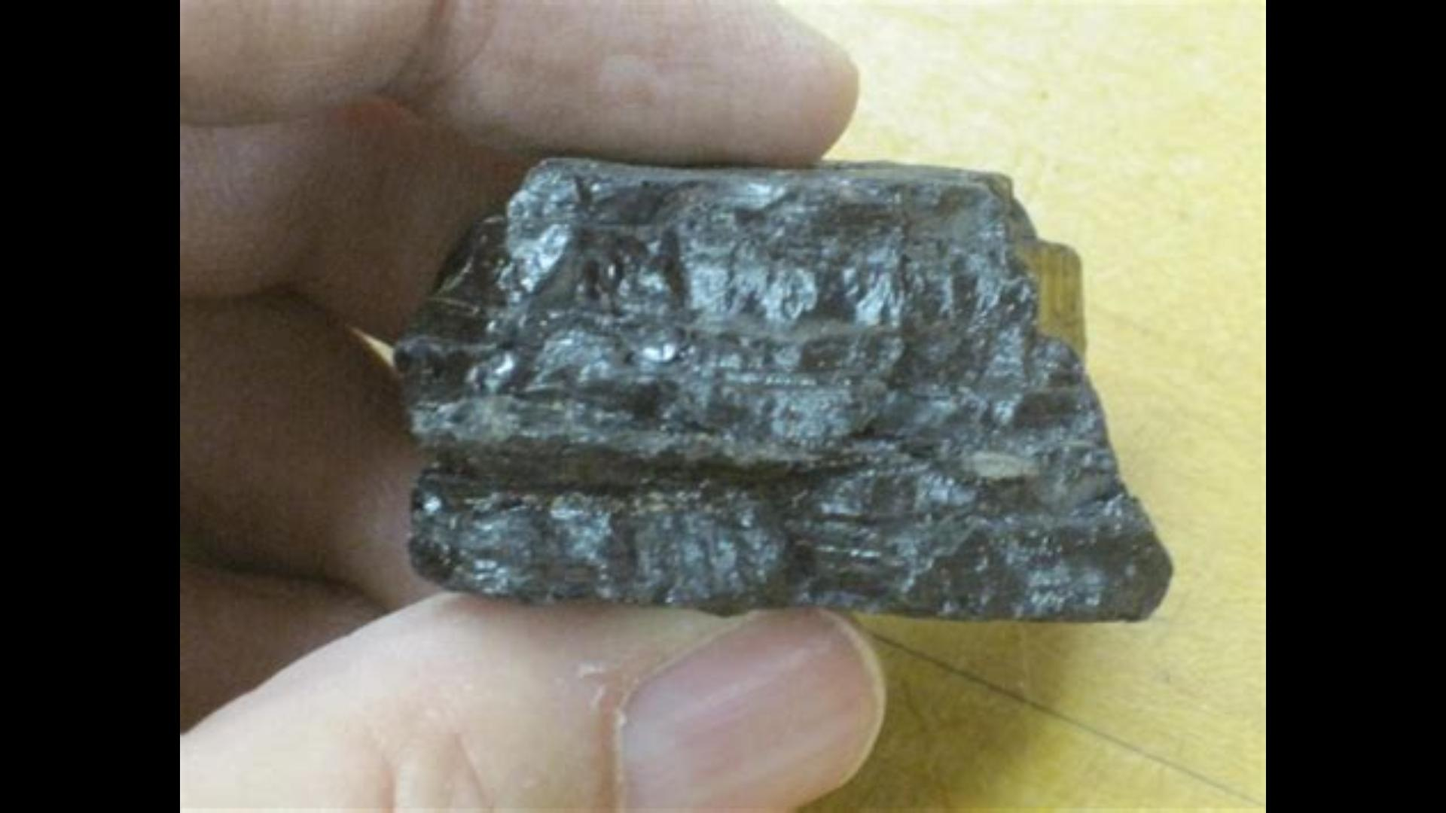rock: (398, 160, 1168, 616)
